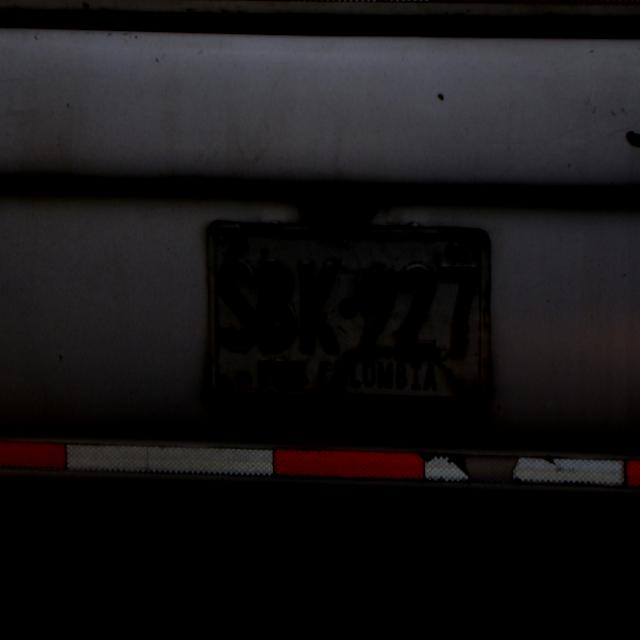placa: (202, 210, 500, 416)
